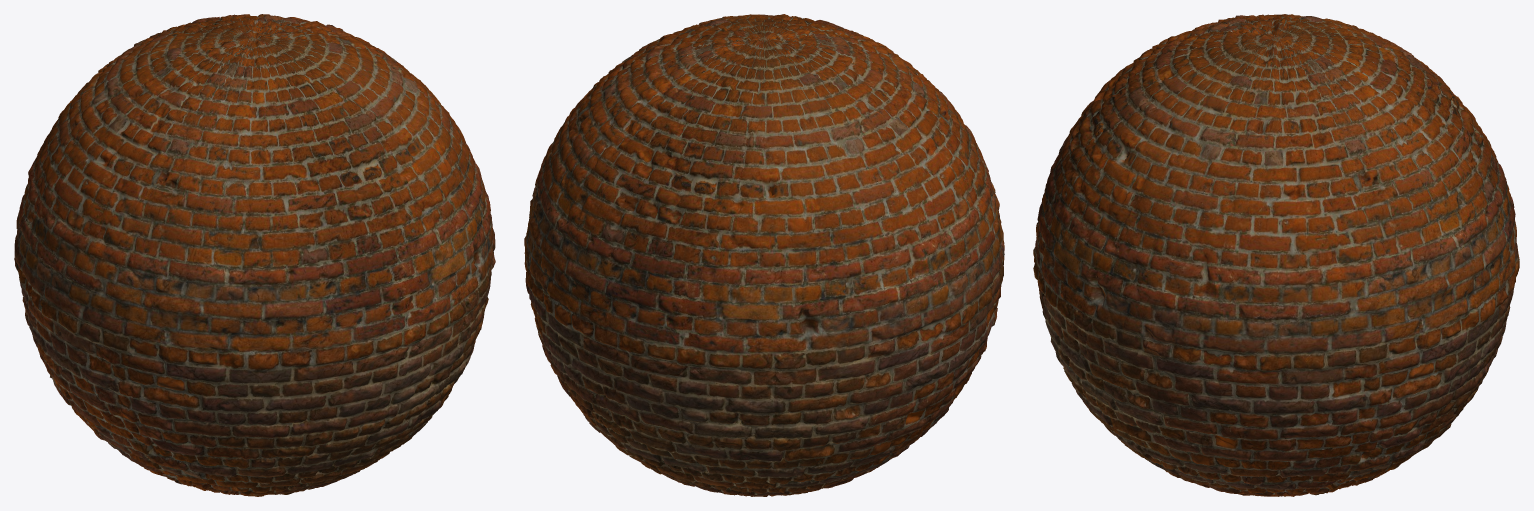
File: red_bricks_04_1k.gltf
3 views of the same model, side by side, from view 1: azimuth 30°, elevation 25°; view 2: azimuth 150°, elevation 25°; view 3: azimuth 270°, elevation 25° (orthographic).
Visible parts, largest first — view 1: sphere_gltf; view 2: sphere_gltf; view 3: sphere_gltf.
Boxes of the visible parts, bbox=[...] form: sphere_gltf: bbox=[14, 14, 495, 496]; sphere_gltf: bbox=[524, 14, 1004, 496]; sphere_gltf: bbox=[1033, 14, 1519, 496].
Size of the model in its own units: 2.52 by 2.54 by 2.54.
1 material, 1 textured.
